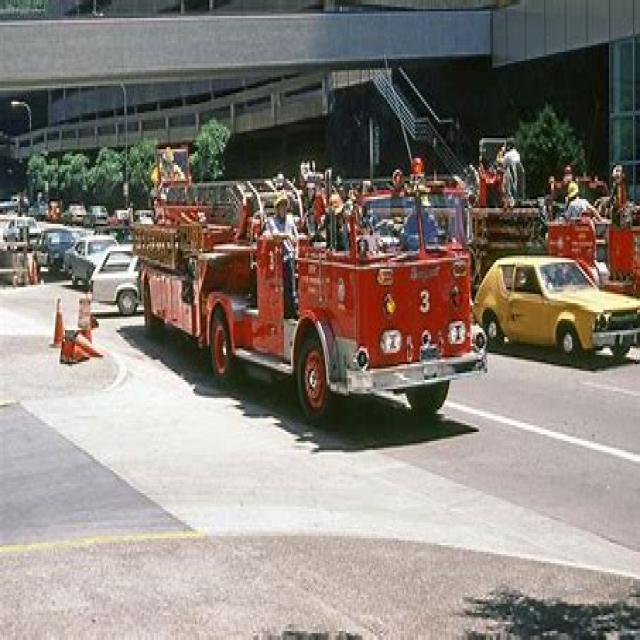Fire-engine: (130, 140, 489, 423)
